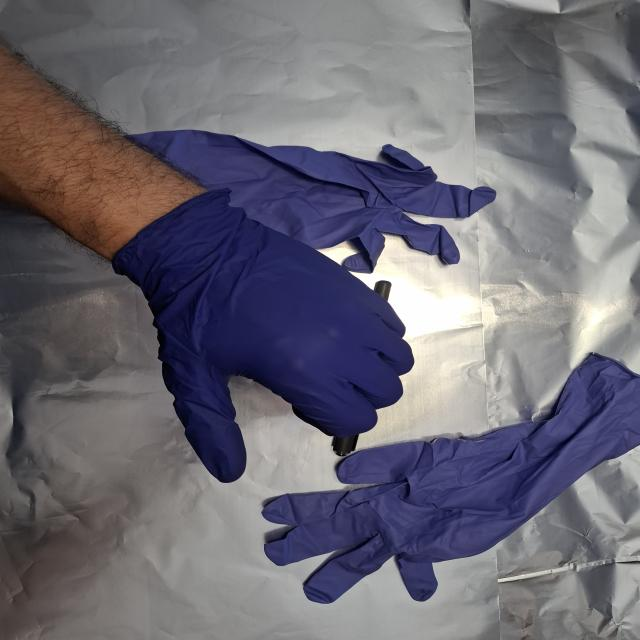glove_on: (112, 187, 418, 486)
